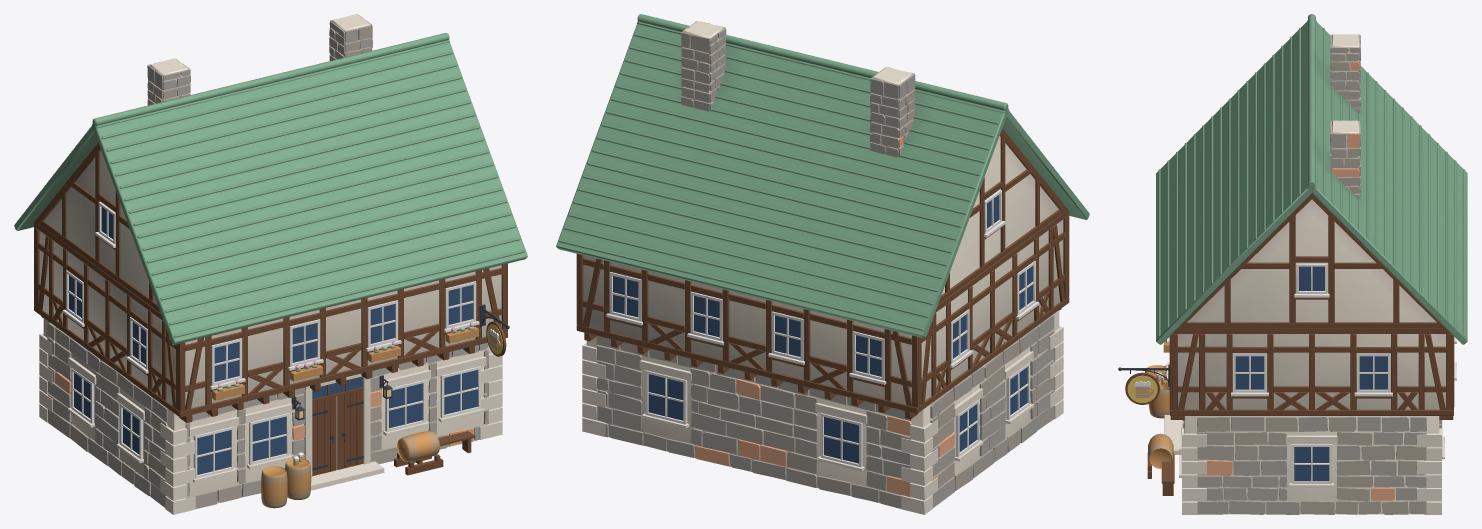
File: pirate-captain-house.glb
3 renders of one model, left to right at view 1: azimuth 30°, elevation 25°; view 2: azimuth 150°, elevation 25°; view 3: azimuth 270°, elevation 25°, orthographic. The views are drawn at different scales.
Visible parts, largest first — view 1: tavern_body, tavern_details, tavern_timbers, tavern_stonework; view 2: tavern_body, tavern_stonework, tavern_timbers, tavern_details; view 3: tavern_body, tavern_stonework, tavern_timbers, tavern_details.
Part boxes in pixels (x1=…): tavern_body: x1=14, y1=14, x2=527, y2=503; tavern_details: x1=39, y1=202, x2=509, y2=514; tavern_timbers: x1=34, y1=143, x2=507, y2=422; tavern_stonework: x1=47, y1=14, x2=488, y2=508; tavern_body: x1=556, y1=14, x2=1089, y2=503; tavern_stonework: x1=596, y1=21, x2=1054, y2=508; tavern_timbers: x1=576, y1=128, x2=1069, y2=419; tavern_details: x1=582, y1=189, x2=1063, y2=514; tavern_body: x1=1156, y1=14, x2=1467, y2=514; tavern_stonework: x1=1182, y1=34, x2=1441, y2=514; tavern_timbers: x1=1169, y1=193, x2=1454, y2=419; tavern_details: x1=1118, y1=263, x2=1456, y2=514.
Bounding box in the file's own units: 10.9 × 10.83 × 9.6.
19 materials, 1 textured.
